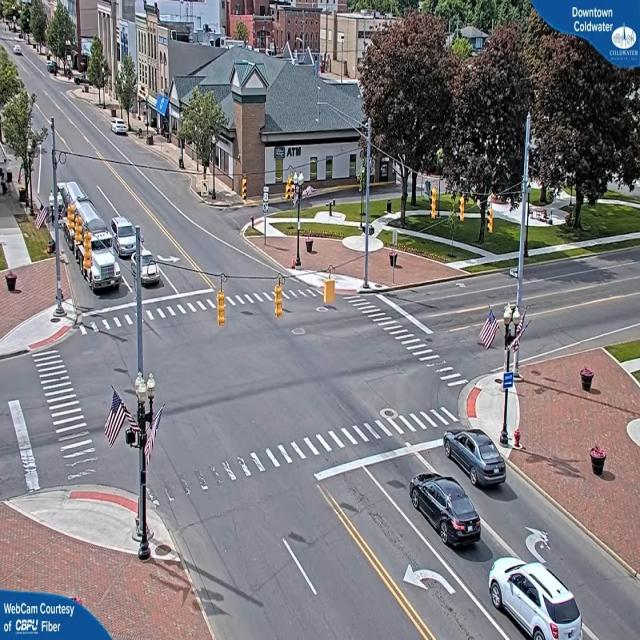car: (491, 561, 586, 640), (410, 476, 482, 551), (449, 428, 508, 488), (110, 218, 142, 257), (143, 257, 162, 287), (112, 121, 130, 138), (14, 46, 24, 58)
truck: (83, 243, 121, 293)
